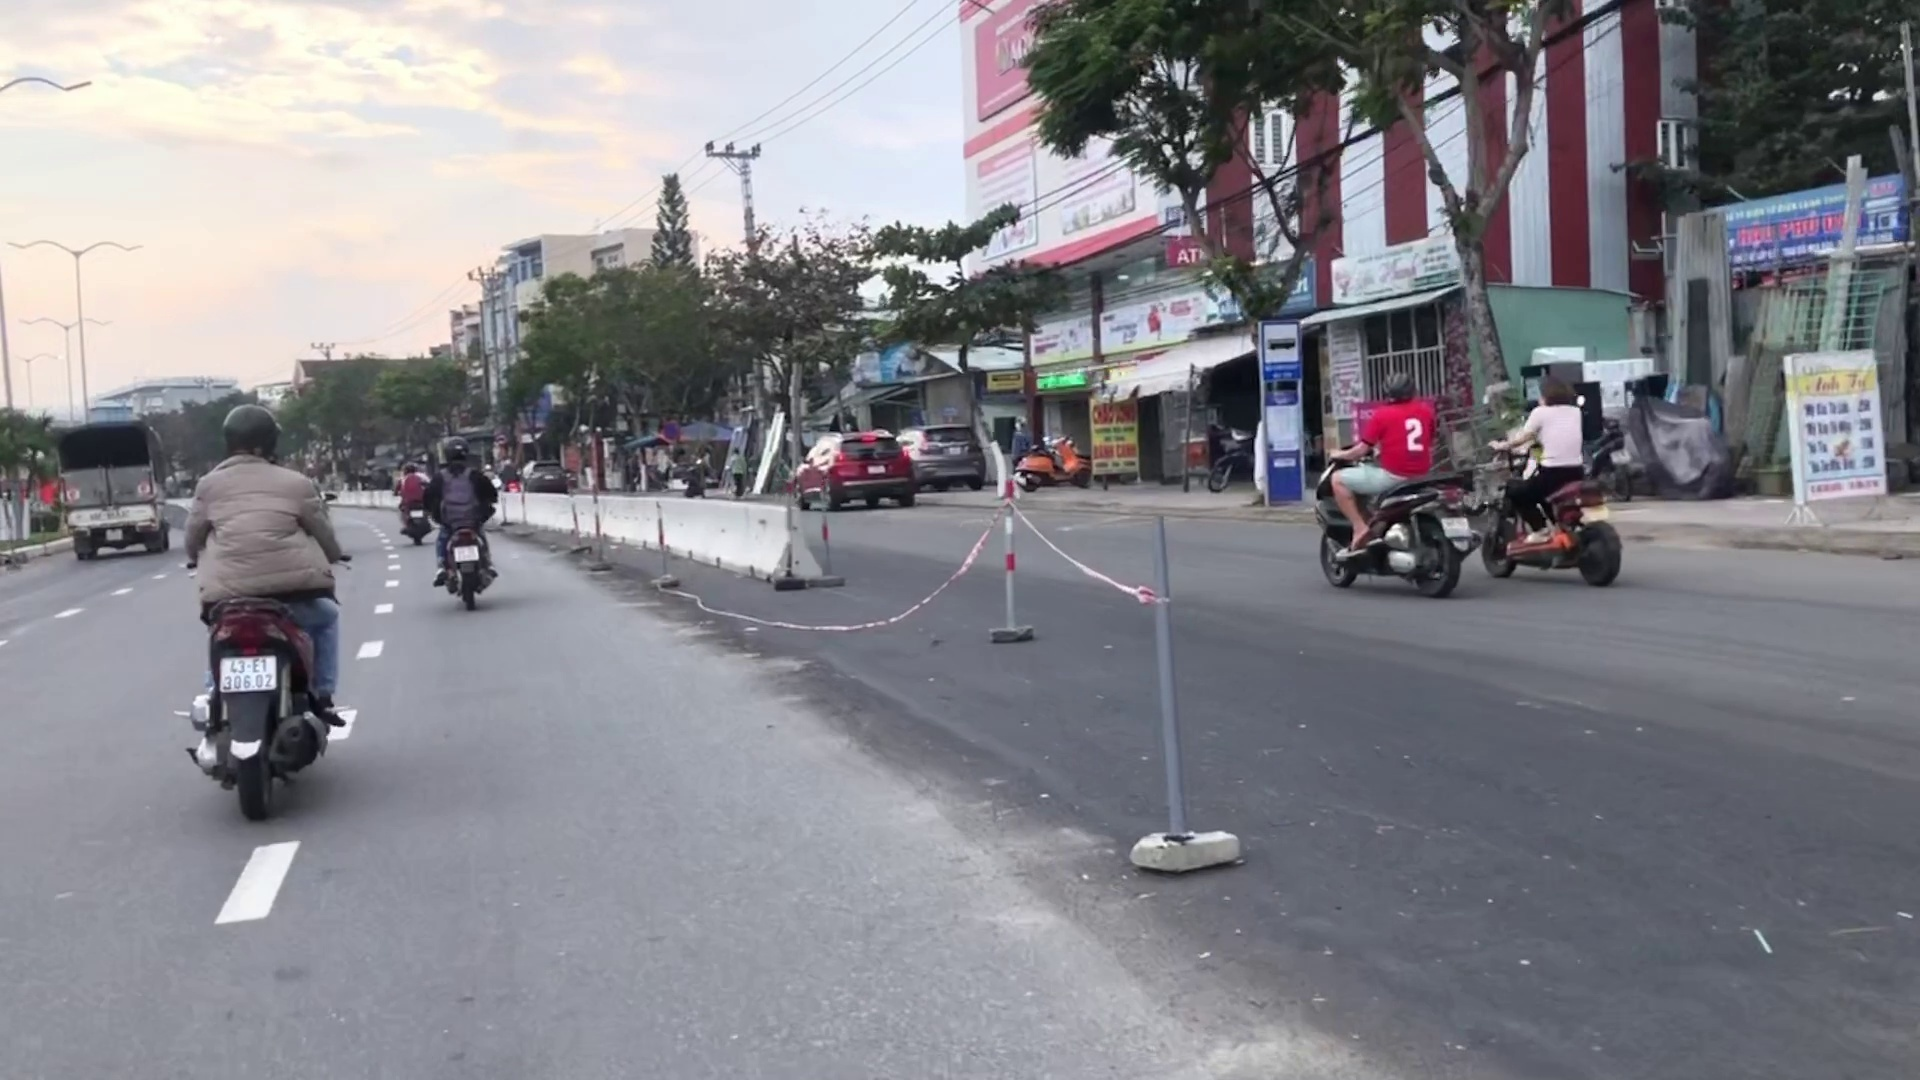Bien khac: (1257, 313, 1303, 380)
